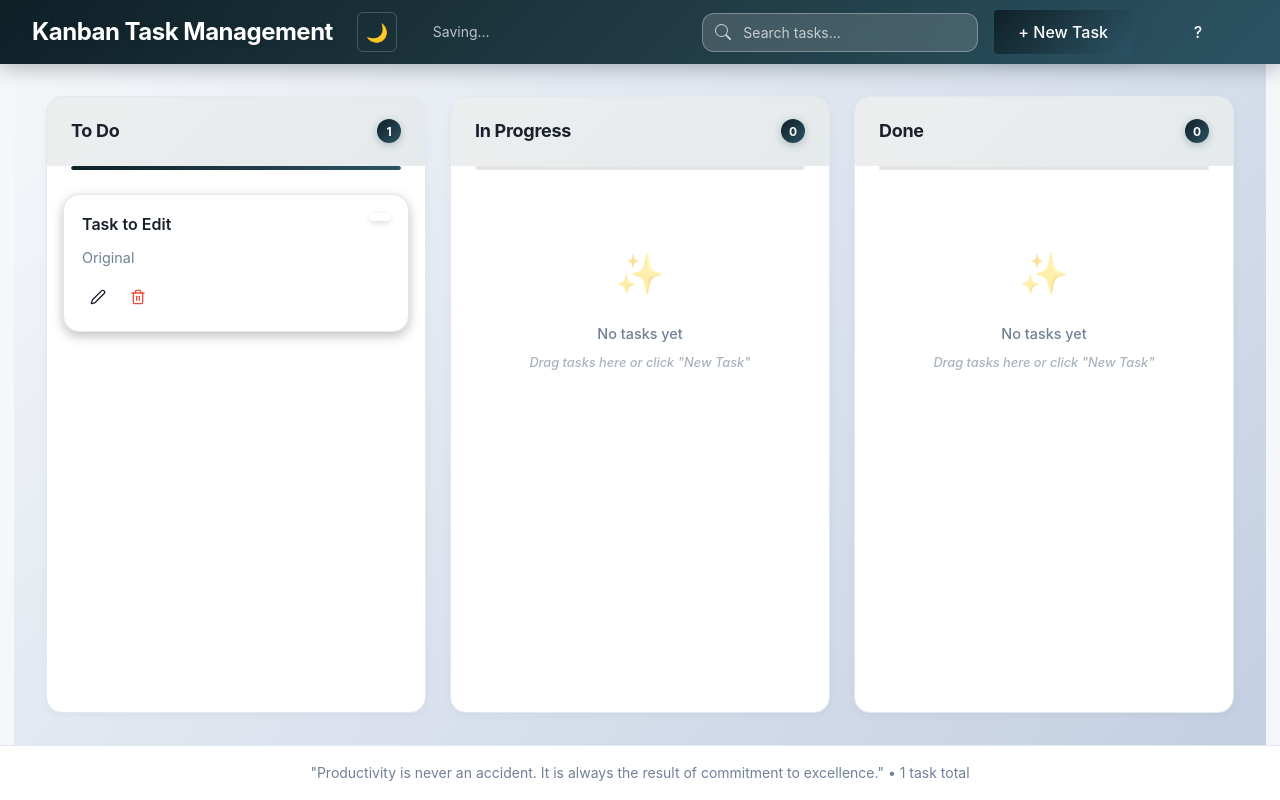
Scenario: App Integration Tests › Task Editing Flow › saves edited task to LocalStorage
The width and height of the screenshot is (1280, 800).
Expected: the heading "Task to Edit" is shown, [82, 214, 171, 234]
Edit task
Click the button named "Edit task: Task to Edit" at coordinates (98, 297), box [82, 281, 114, 313]
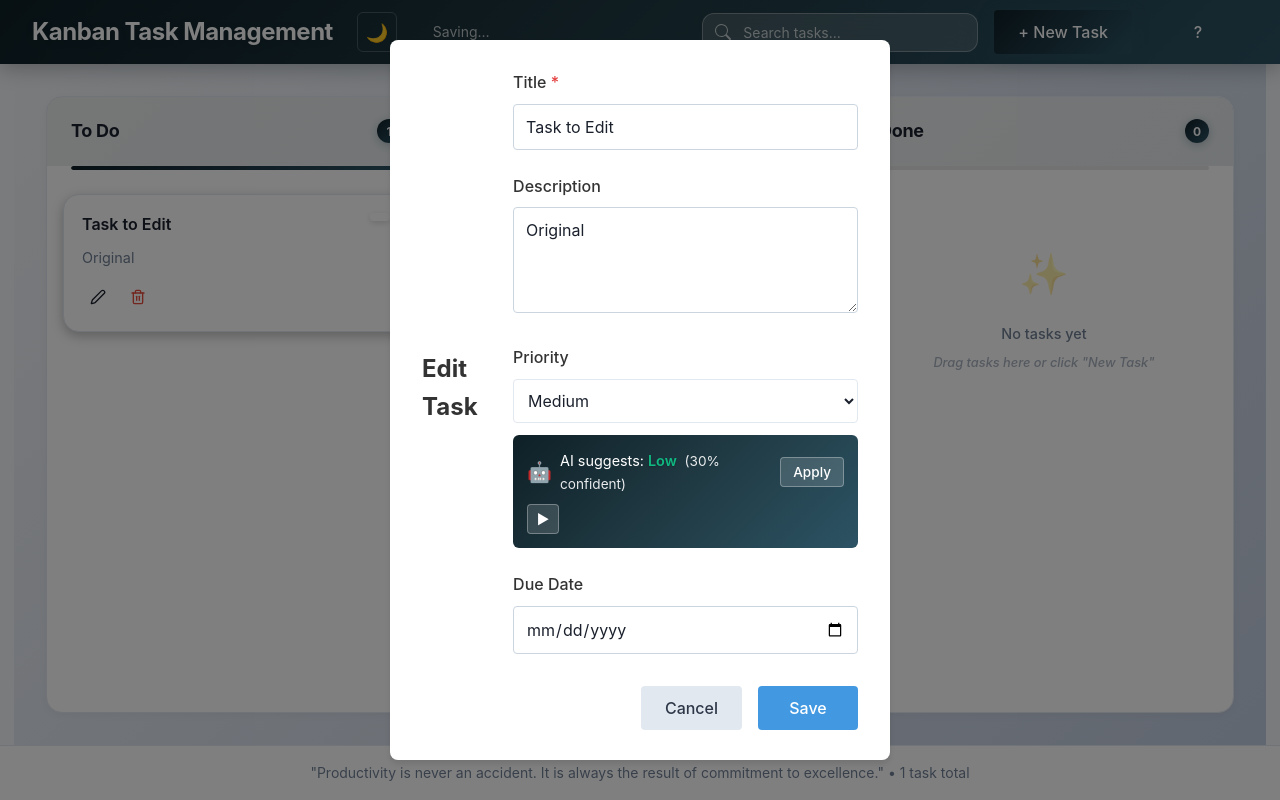
Replace the text in the field named "Task title" with "Edited Task" at coordinates (686, 127), box [513, 104, 858, 150]
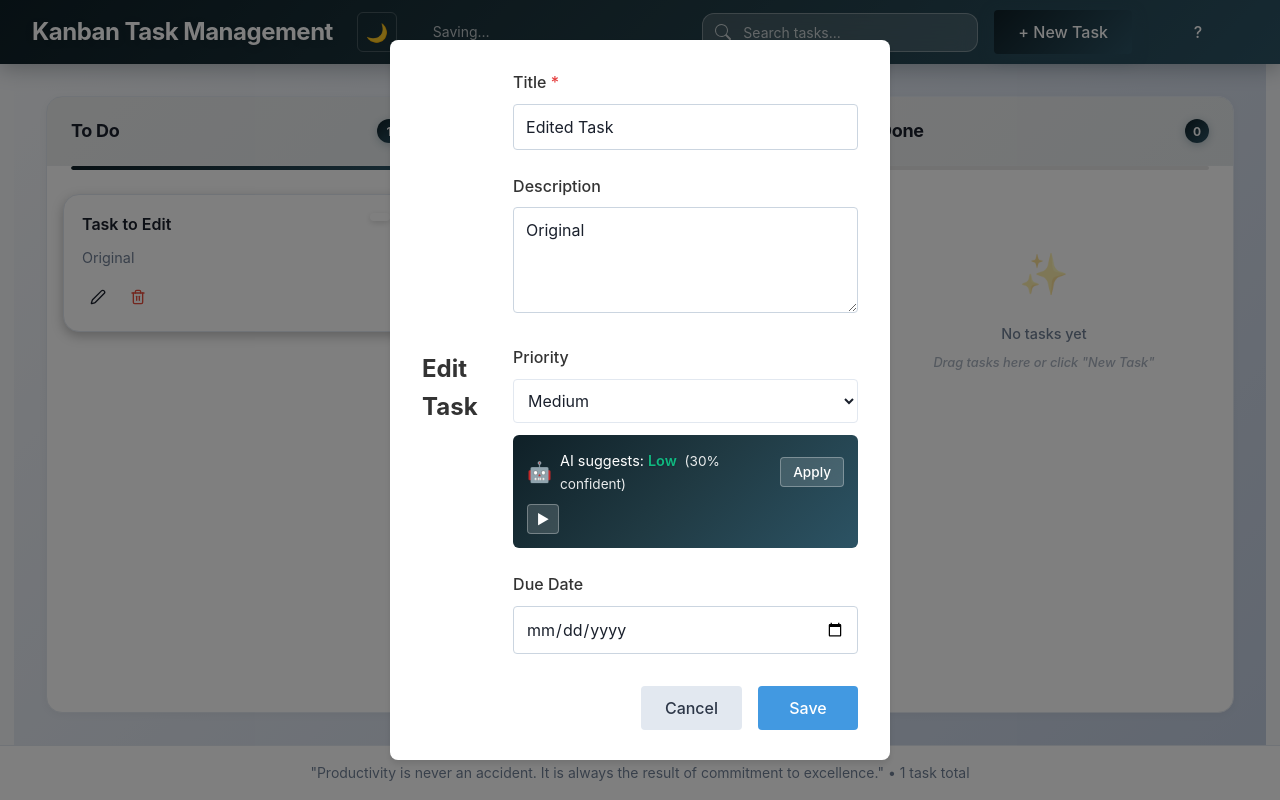
Click the button with aria-label "Save changes" at coordinates (808, 708), box [758, 686, 858, 730]
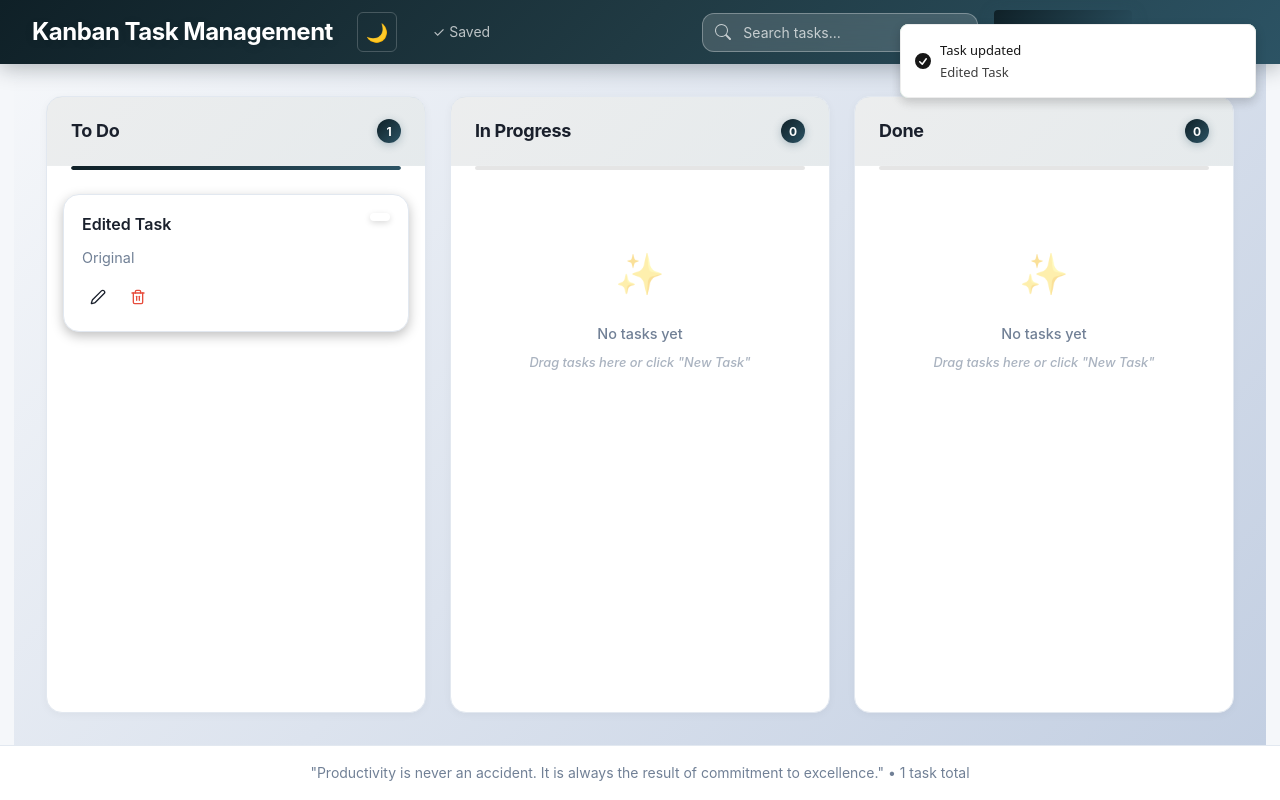
Expected: the 1st text "Edited Task" is shown, [940, 62, 1009, 80]
